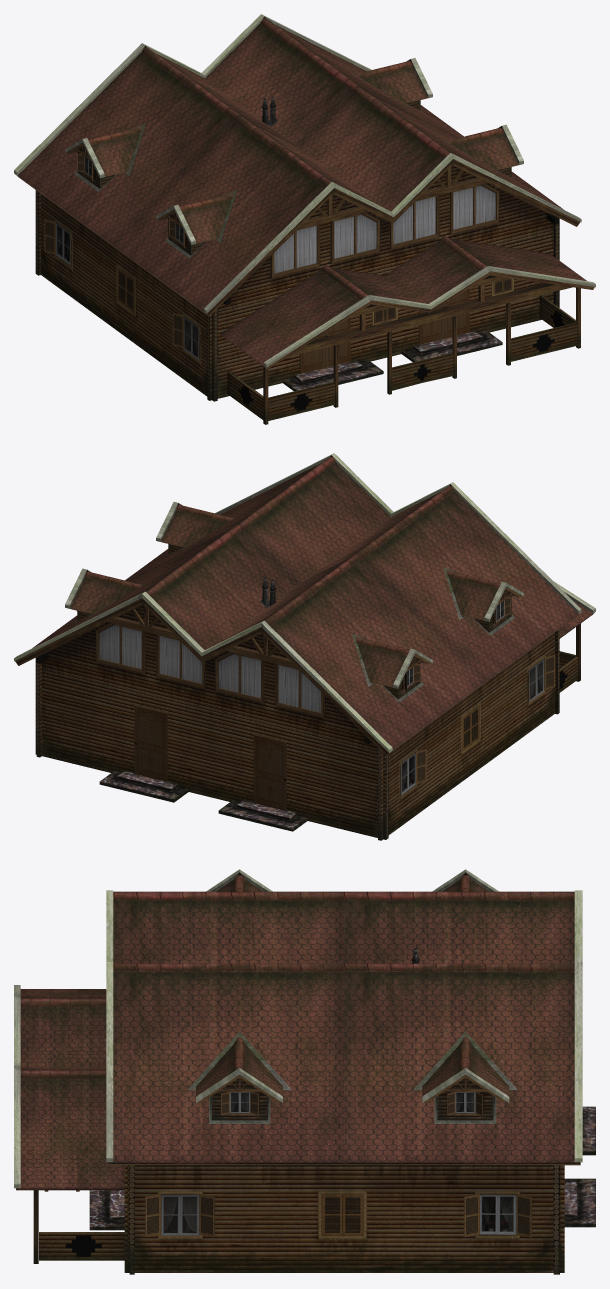
File: house2.obj
3 renders of one model, top to bottom at view 1: azimuth 30°, elevation 25°; view 2: azimuth 150°, elevation 25°; view 3: azimuth 270°, elevation 25°, orthographic. The views are drawn at different scales.
Visible parts, largest first — view 1: City_building_032.001; view 2: City_building_032.001; view 3: City_building_032.001.
Part boxes in pixels (<box>): City_building_032.001: <box>14,14,595,424</box>; City_building_032.001: <box>14,453,595,840</box>; City_building_032.001: <box>14,869,595,1274</box>.
Size of the model in its own units: 2.37 by 1.18 by 2.57.
Materials: 1 (1 with a texture image).
